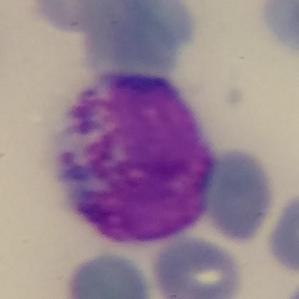Basophil: (47, 66, 217, 256)
RBC: (76, 0, 184, 85), (198, 144, 278, 246), (148, 231, 245, 299), (108, 0, 203, 51), (61, 249, 156, 299), (263, 189, 299, 277), (28, 0, 110, 35), (255, 0, 299, 56)
